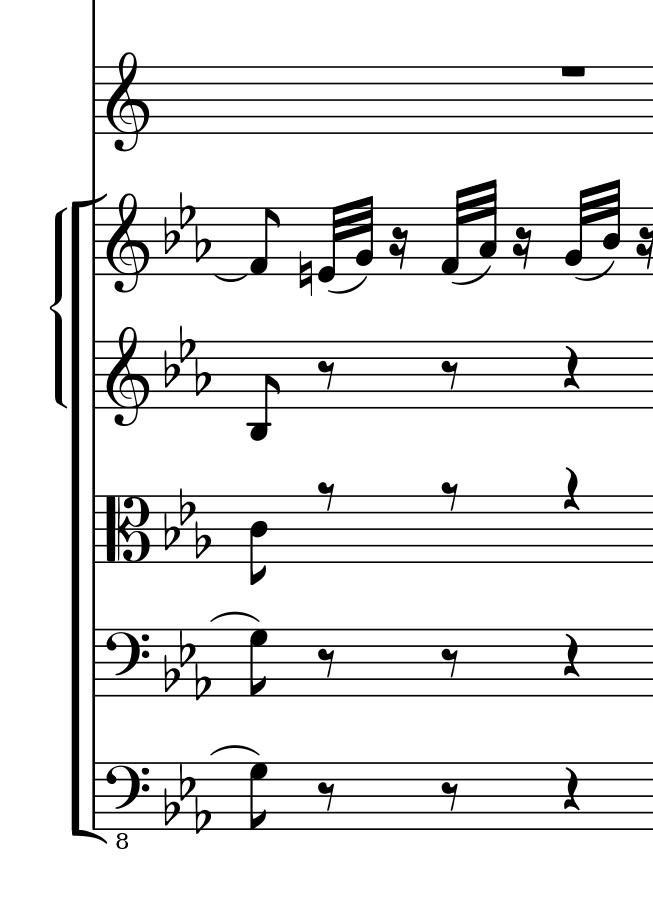32_0: (317, 202, 348, 284)
32_1: (439, 186, 471, 277)
32_2: (562, 187, 591, 275), (351, 194, 376, 277)
32_3: (478, 180, 500, 277)
32_4: (602, 177, 622, 277)
8_-3: (248, 338, 280, 443)
8_1: (247, 206, 282, 275)
8_4: (248, 494, 267, 589)
8_7: (248, 628, 270, 698), (247, 762, 269, 831)
Brace: (47, 205, 67, 409)
Bracke: (68, 193, 108, 847)
Cclef: (103, 492, 153, 568)
E_F: (161, 487, 212, 563), (162, 760, 212, 836), (164, 192, 213, 266), (162, 325, 211, 397), (164, 627, 211, 700)
Fclef: (106, 628, 150, 698)
Gclef: (105, 47, 155, 152), (106, 188, 154, 297), (104, 325, 149, 427)
Lower_Fclef: (106, 761, 151, 851)
Natural: (297, 250, 314, 298)
Rests1: (555, 60, 590, 80)
Rests16: (511, 224, 534, 272), (389, 225, 410, 271), (636, 224, 653, 269)
Rests4: (561, 765, 580, 812), (562, 345, 580, 392), (562, 632, 580, 678), (563, 465, 580, 511)
Rests8: (310, 778, 335, 811), (439, 646, 464, 677), (315, 478, 338, 511), (316, 646, 339, 678), (438, 780, 461, 809), (440, 359, 460, 392), (441, 480, 460, 513), (317, 360, 336, 391)
Single_barline: (88, 762, 105, 828), (88, 207, 103, 275), (87, 633, 103, 695), (87, 67, 102, 133), (88, 496, 103, 562), (88, 342, 102, 409)
Slur: (573, 259, 616, 283), (452, 266, 493, 288), (328, 274, 365, 296), (211, 743, 257, 759), (211, 610, 260, 623), (214, 272, 250, 283)
